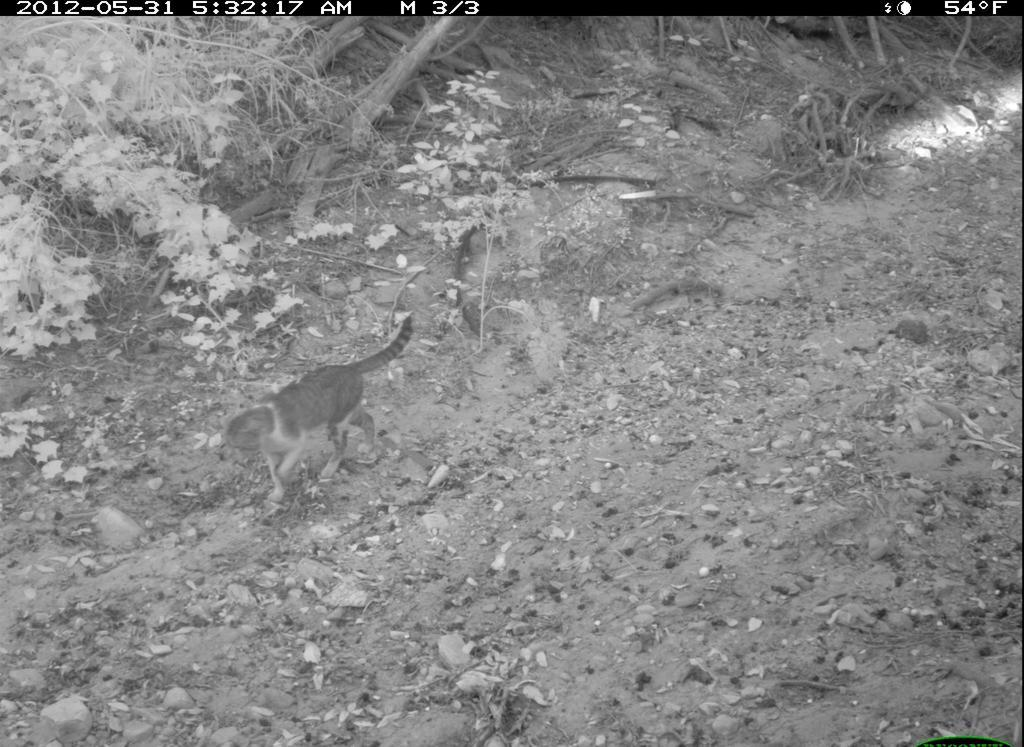cat: (222, 315, 418, 511)
